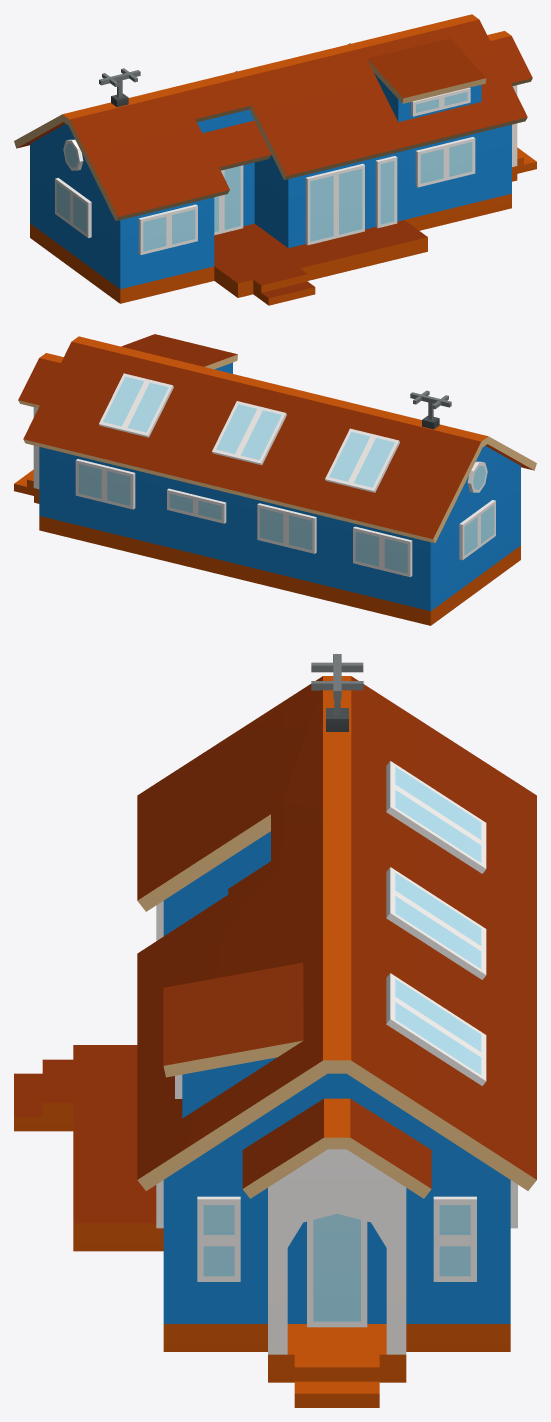
File: big cottage 1 floor new.fbx
The picture shows the model from 3 angles, top to bottom: view 1: azimuth 30°, elevation 25°; view 2: azimuth 150°, elevation 25°; view 3: azimuth 270°, elevation 25°; orthographic projection. The views are drawn at different scales.
Parts seen in each view (by area): view 1: big cottage 1 floor new; view 2: big cottage 1 floor new; view 3: big cottage 1 floor new.
Part boxes in pixels (<box>): big cottage 1 floor new: <box>14,14,536,305</box>; big cottage 1 floor new: <box>14,334,536,625</box>; big cottage 1 floor new: <box>14,654,536,1407</box>.
Bounding box in the file's own units: 1512 × 579 × 774.
Materials: 1 (1 with a texture image).
